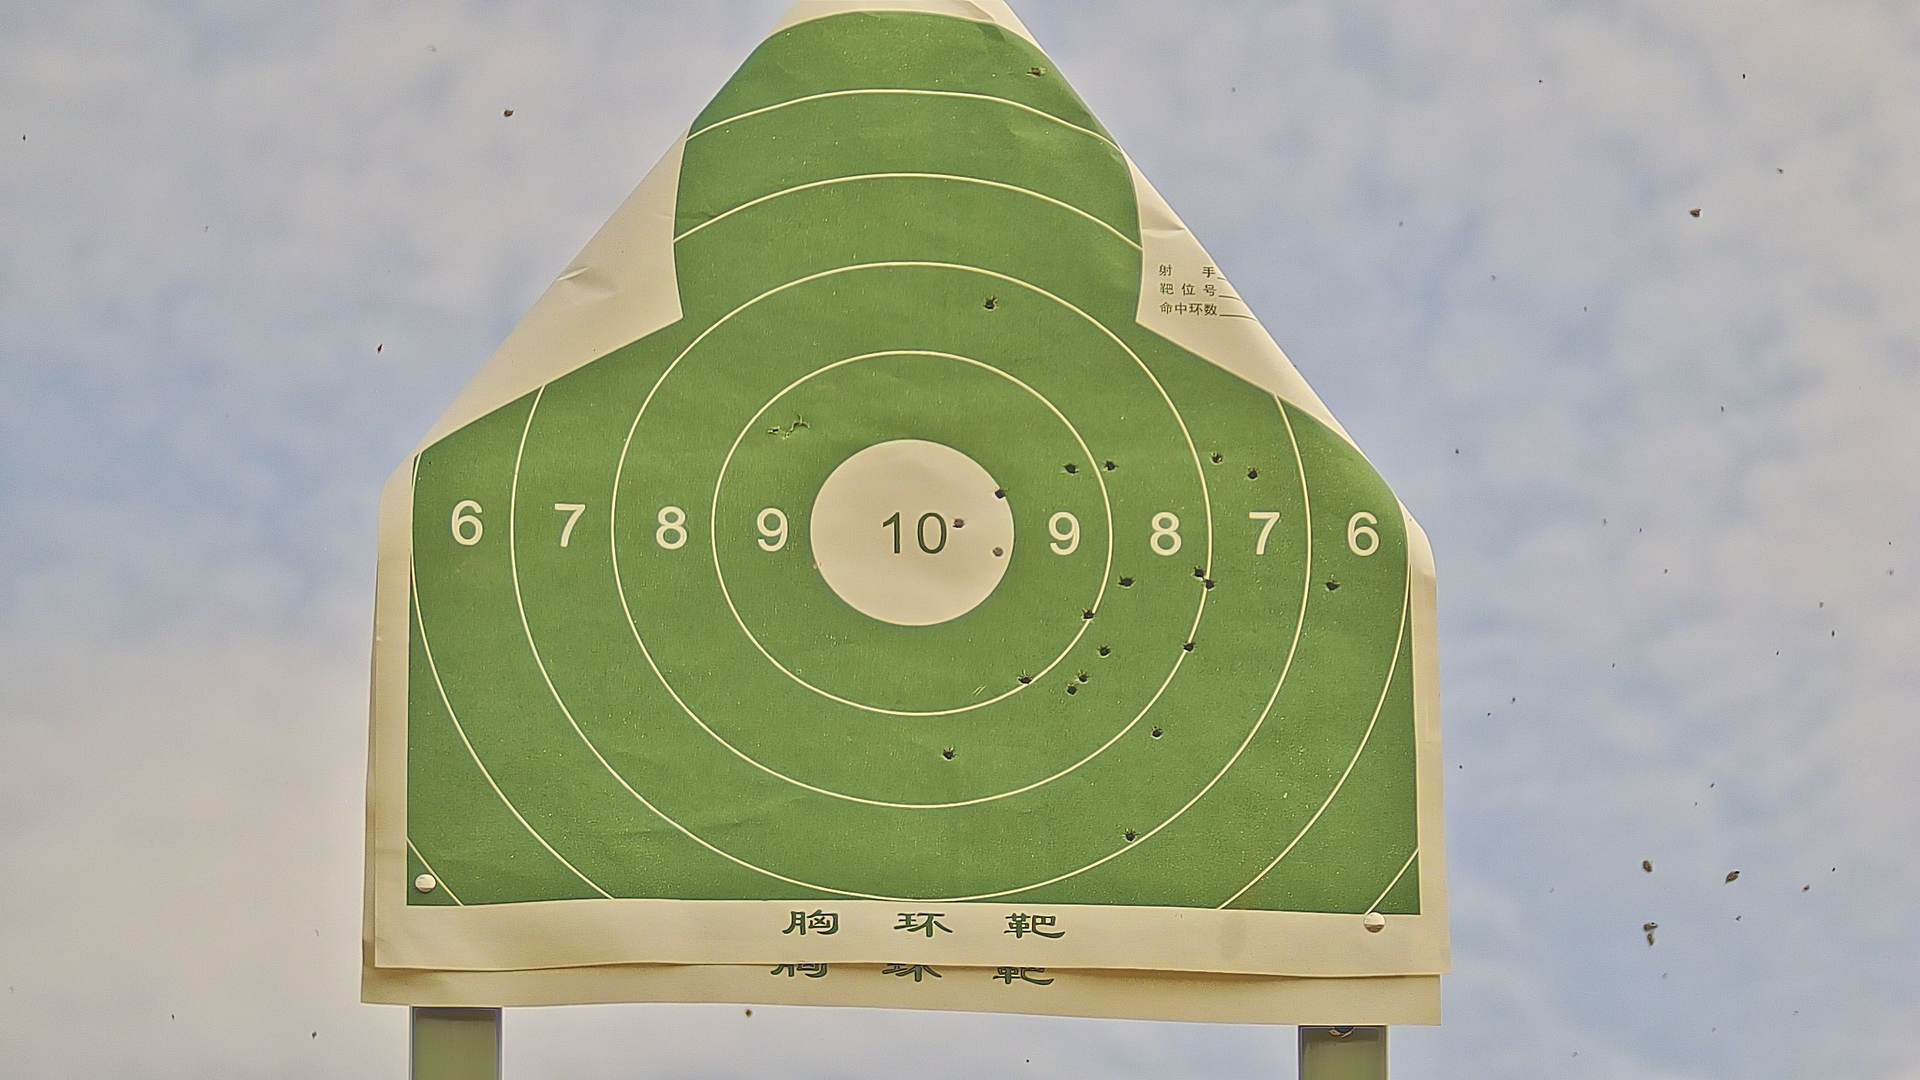hole: (975, 293, 1002, 314), (936, 738, 957, 764), (1059, 458, 1079, 480), (1077, 603, 1100, 622), (986, 541, 1010, 559), (1242, 464, 1263, 484), (990, 483, 1011, 501), (1116, 574, 1139, 589), (1095, 640, 1112, 661), (1014, 671, 1036, 687), (1205, 447, 1224, 465), (1075, 669, 1093, 687), (1100, 456, 1120, 473), (1179, 636, 1196, 655), (1324, 578, 1342, 595), (1063, 680, 1081, 698), (1023, 63, 1044, 78), (951, 514, 965, 534), (1203, 574, 1217, 593), (1150, 723, 1164, 742), (1124, 822, 1137, 843), (1191, 562, 1207, 579)
kernel: (903, 530, 919, 538)
target: (407, 11, 1419, 915)
ten: (802, 431, 1021, 632)
